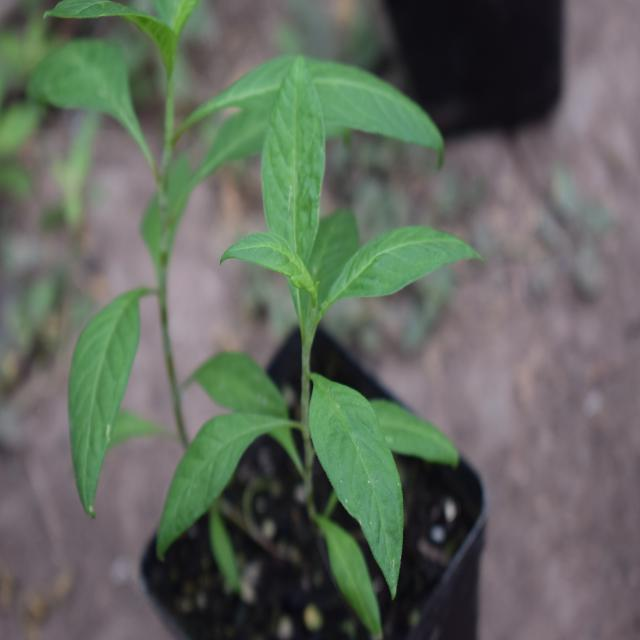white_smart_weed: (160, 56, 504, 572)
